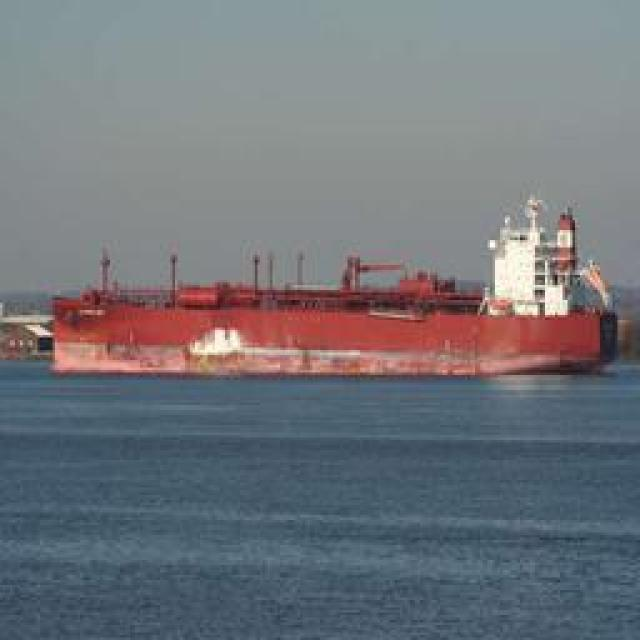ship2: (51, 195, 620, 376)
